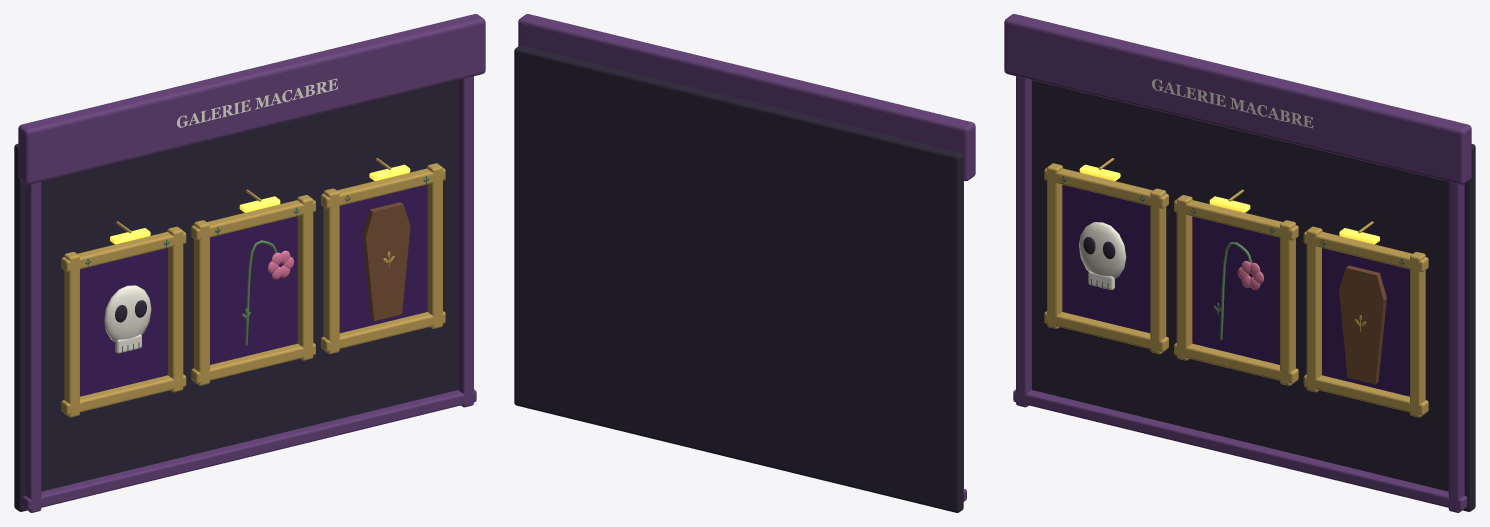
File: gallery_display.glb
The picture shows the model from 3 angles, left to right: view 1: azimuth 30°, elevation 25°; view 2: azimuth 150°, elevation 25°; view 3: azimuth 330°, elevation 25°; orthographic projection. The views are drawn at different scales.
Visible parts, largest first — view 1: Shadow_back, Sign_face, Canvas.001, Canvas, Carved_frame_rail, Canvas.002, Carved_frame_stile, Carved_frame_stile.001, Coffin_relief, Carved_frame_stile.005, Carved_frame_stile.006, Carved_frame_stile.007 (+11 smaller); view 2: Shadow_back, Sign_face; view 3: Shadow_back, Sign_face, Canvas.001, Canvas, Carved_frame_rail, Canvas.002, Carved_frame_stile.001, Carved_frame_stile, Coffin_relief, Carved_frame_stile.003, Carved_frame_stile.004, Carved_frame_stile.006 (+11 smaller).
Boxes of the visible parts, x1,y1,x2,y2 form: Shadow_back: (14,80,457,511); Sign_face: (18,14,485,184); Canvas.001: (210,216,297,364); Canvas: (80,248,167,396); Carved_frame_rail: (22,389,476,510); Canvas.002: (339,184,427,333); Carved_frame_stile: (25,182,41,512); Carved_frame_stile.001: (458,76,473,407); Coffin_relief: (362,202,410,320); Carved_frame_stile.005: (297,195,313,360); Carved_frame_stile.006: (323,188,339,354); Carved_frame_stile.007: (427,163,442,328); Shadow_back: (514,45,963,512); Sign_face: (518,14,975,181); Shadow_back: (1032,80,1475,511); Sign_face: (1004,14,1471,184); Canvas.001: (1192,216,1279,364); Canvas: (1062,184,1150,333); Carved_frame_rail: (1013,389,1467,510); Canvas.002: (1322,248,1409,396); Carved_frame_stile.001: (1448,182,1464,512); Carved_frame_stile: (1016,76,1031,407); Coffin_relief: (1339,265,1386,384); Carved_frame_stile.003: (1150,188,1166,354); Carved_frame_stile.004: (1176,195,1192,360); Carved_frame_stile.006: (1306,226,1322,392).
Size of the model in its own units: 3.3 by 2.67 by 0.275.
